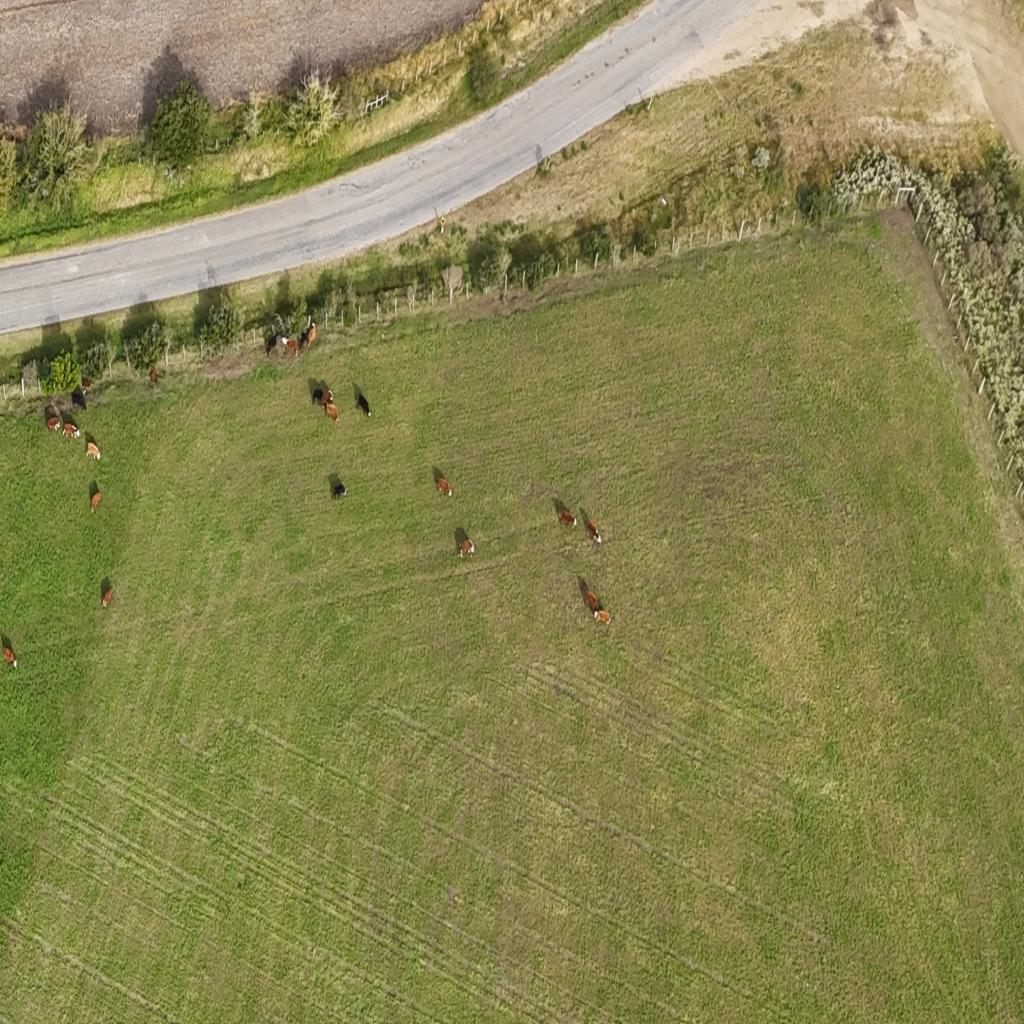cow: (585, 518, 602, 544), (558, 510, 576, 531), (436, 475, 452, 498), (356, 394, 371, 418), (62, 420, 80, 440), (323, 402, 339, 424), (458, 538, 475, 558), (265, 332, 279, 356), (282, 338, 298, 358), (304, 322, 316, 348), (586, 590, 599, 614), (74, 386, 88, 408), (45, 413, 61, 432), (86, 441, 101, 461), (90, 490, 102, 514), (593, 608, 610, 624), (2, 646, 16, 665), (101, 586, 113, 608), (331, 483, 346, 500), (311, 387, 326, 403), (322, 388, 335, 404), (54, 401, 66, 417), (149, 366, 157, 384), (82, 378, 92, 392)
